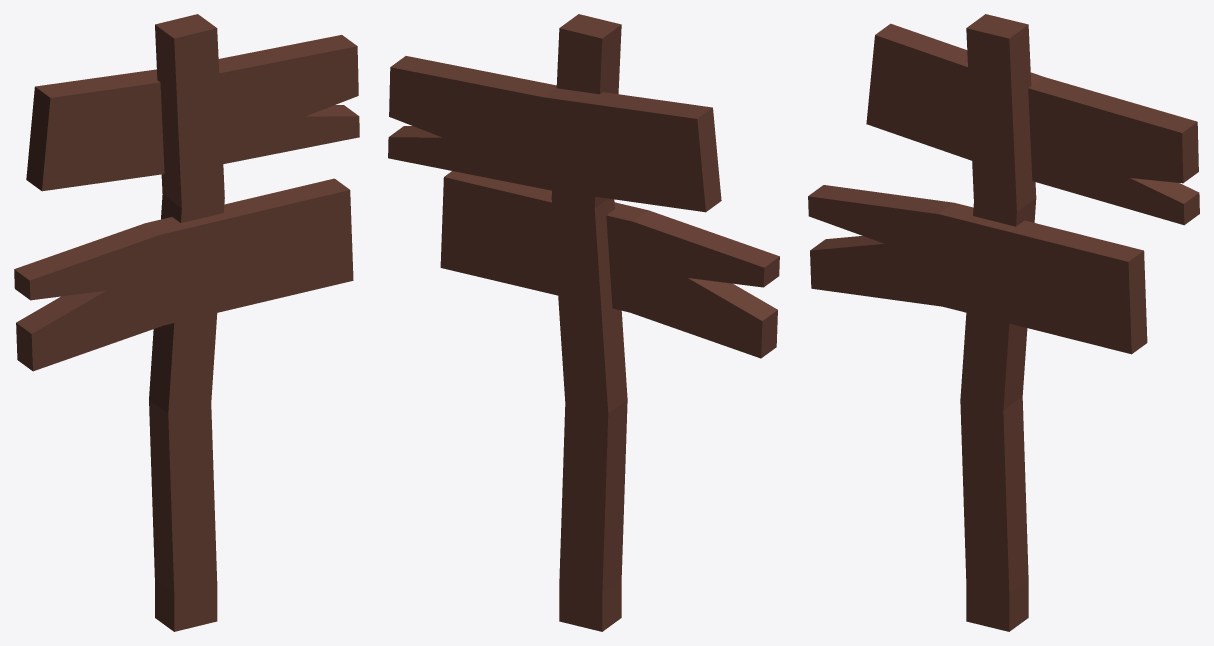
The model's file is signboard1.glb.
The picture shows the model from 3 angles, left to right: view 1: azimuth 30°, elevation 25°; view 2: azimuth 150°, elevation 25°; view 3: azimuth 330°, elevation 25°; orthographic projection.
Visible parts, largest first — view 1: signboard1; view 2: signboard1; view 3: signboard1.
Part boxes in pixels (x1,y1,x2,y2): signboard1: (14, 14, 359, 631); signboard1: (388, 14, 779, 631); signboard1: (808, 14, 1199, 631).
Size of the model in its own units: 0.9556 by 1.53 by 0.1814.
1 material, 1 textured.
